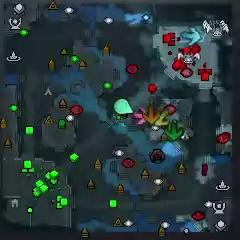p2: (114, 98, 132, 115)
x1: (132, 106, 148, 125)
x2: (154, 111, 168, 128)
x3: (182, 27, 201, 46)
x4: (165, 122, 184, 142)
x5: (143, 103, 160, 124)
